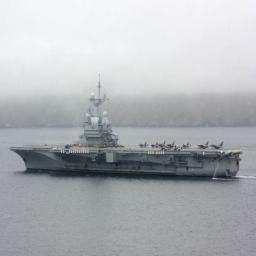Portanaves: (7, 74, 243, 183)
